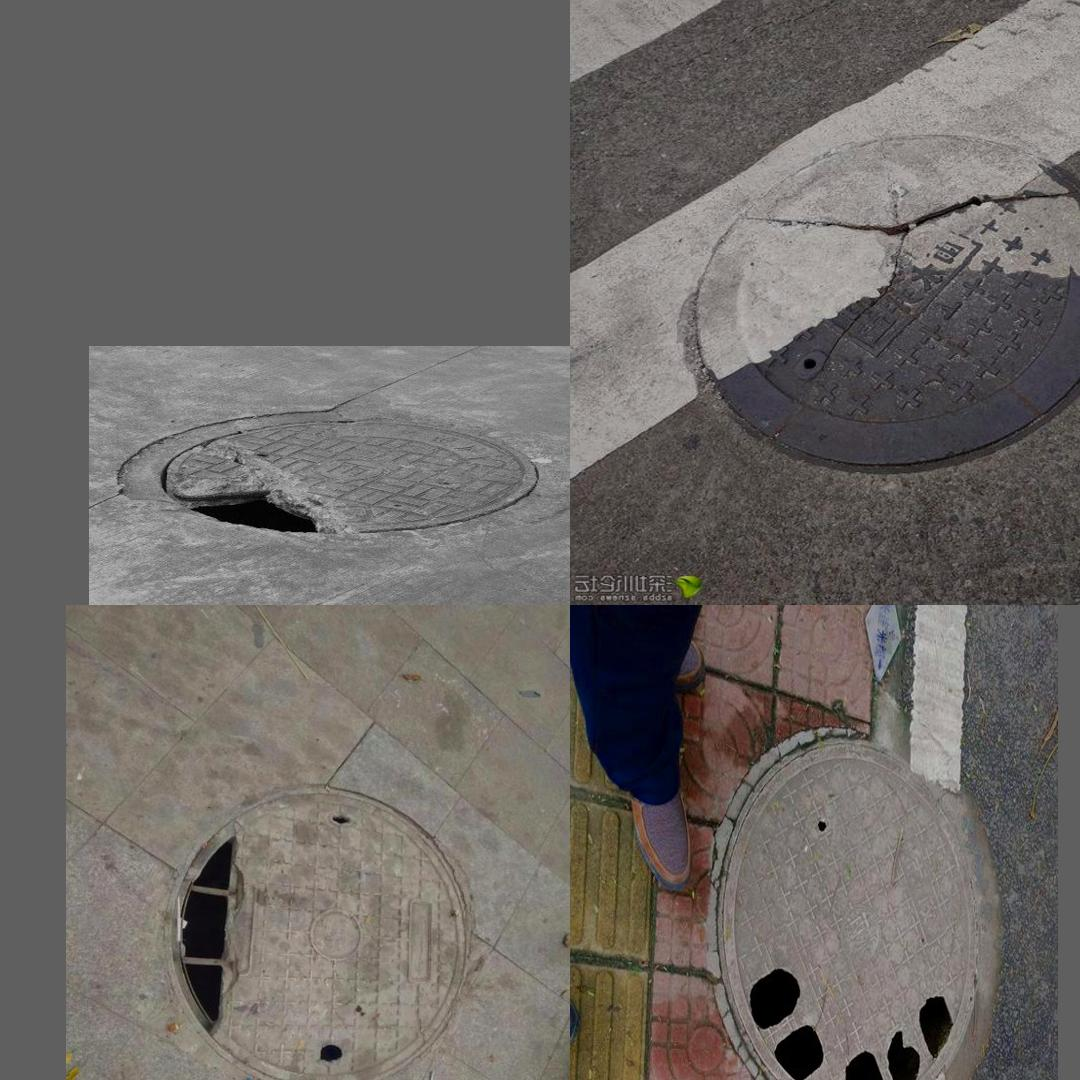broke: (659, 114, 1080, 475), (706, 719, 1006, 1080), (149, 768, 484, 1080), (172, 409, 540, 532)
